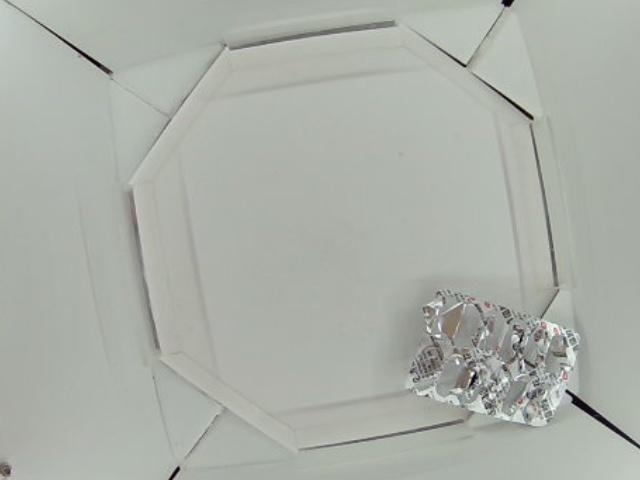Medicine: (407, 288, 579, 427)
